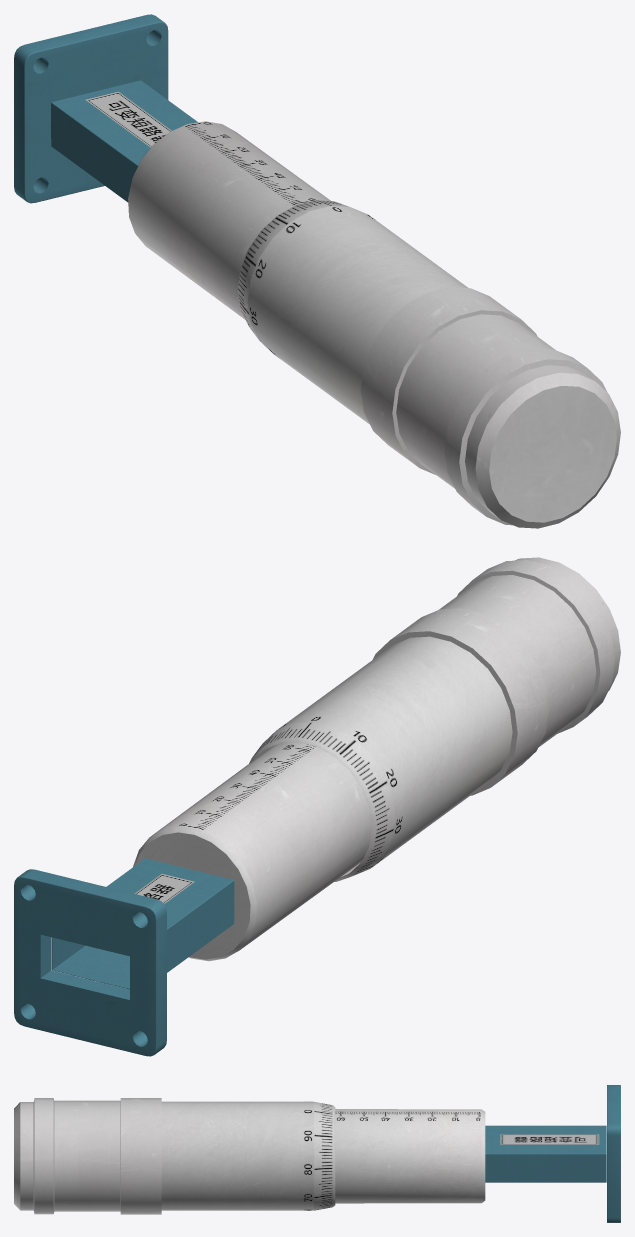
File: ke_bian_duan_lu_qi(1).FBX
The picture shows the model from 3 angles, top to bottom: view 1: azimuth 30°, elevation 25°; view 2: azimuth 150°, elevation 25°; view 3: azimuth 270°, elevation 25°; orthographic projection. The views are drawn at different scales.
Visible parts, largest first — view 1: kebianduanluqi016, kebianduanluqi015, Box018, kebianduanluqi014; view 2: kebianduanluqi016, kebianduanluqi015, Box018, kebianduanluqi014; view 3: kebianduanluqi016, kebianduanluqi015, kebianduanluqi014, Box018.
Boxes of the visible parts, x1,y1,x2,y2 form: kebianduanluqi016: (237, 200, 620, 528); kebianduanluqi015: (128, 121, 331, 319); Box018: (14, 14, 168, 203); kebianduanluqi014: (51, 80, 197, 202); kebianduanluqi016: (249, 557, 620, 881); kebianduanluqi015: (133, 742, 371, 961); Box018: (14, 869, 166, 1056); kebianduanluqi014: (51, 858, 234, 989); kebianduanluqi016: (14, 1098, 335, 1214); kebianduanluqi015: (335, 1109, 485, 1203); kebianduanluqi014: (485, 1125, 606, 1182); Box018: (607, 1085, 620, 1222).
Size of the model in its own units: 4.32 by 4.28 by 22.51.
